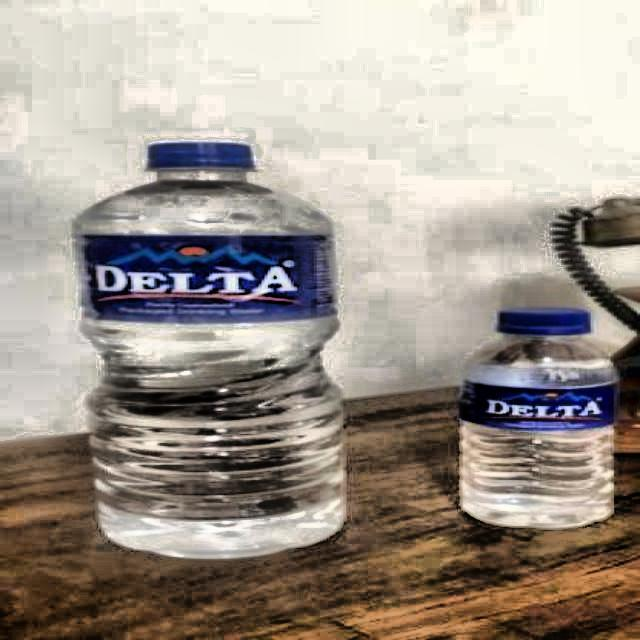Bottles: (68, 131, 356, 558), (454, 294, 624, 536)
